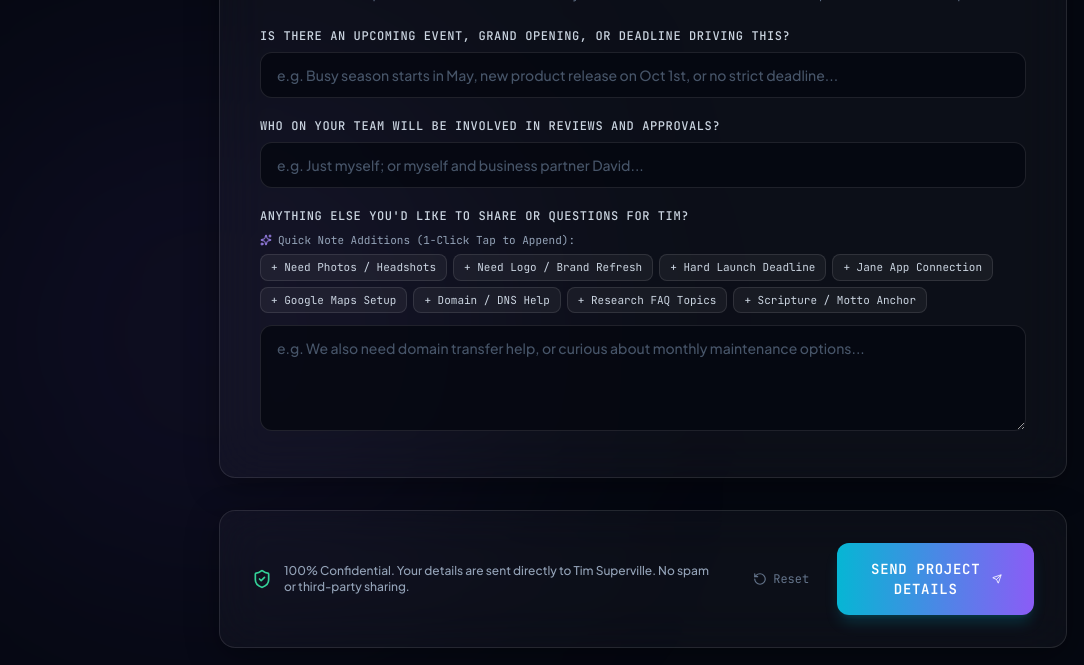
Test case: ClientIntake › shows validation error if client name or email is empty upon submission
(page scrolled)
Click the button "Send Project Details": coordinates (936, 579) x1=837 y1=543 x2=1034 y2=615
(page scrolled)
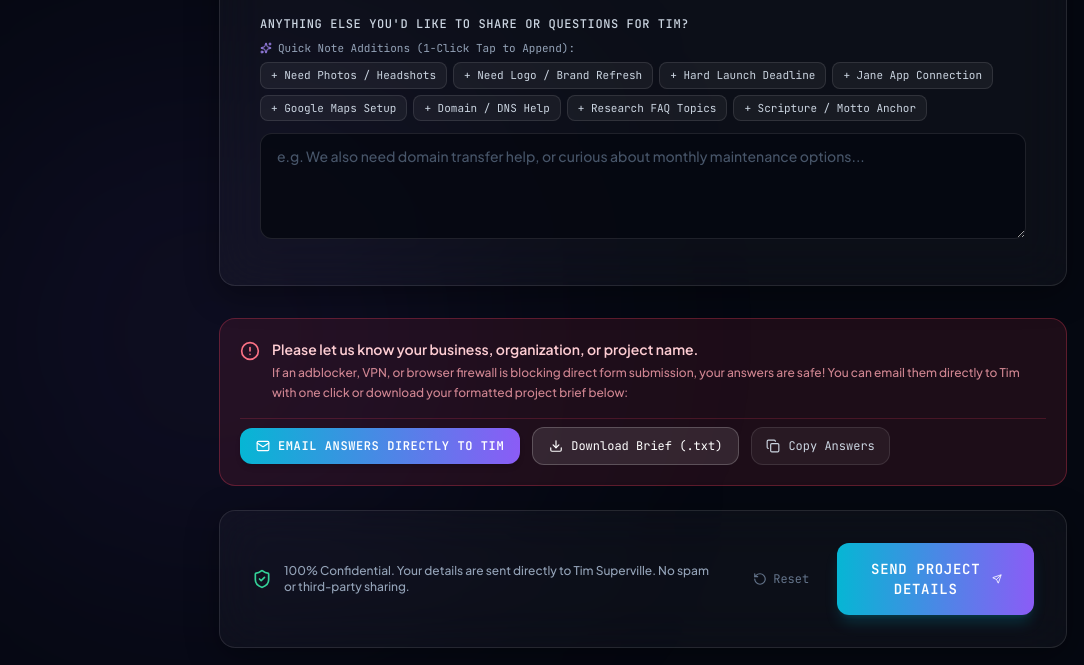
Check: the text "Please let us know your business, organization, or project name" is shown, box x1=272 y1=340 x2=698 y2=358
